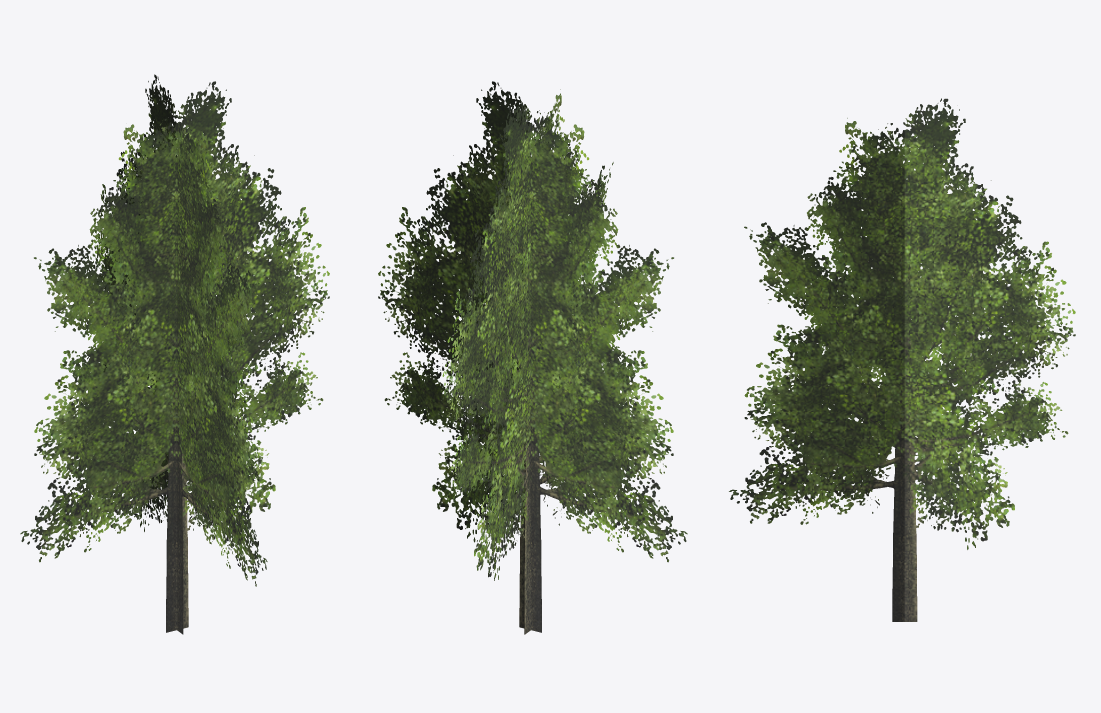
The model's file is Basswood_Fan_0.obj.
3 views of the same model, side by side, from view 1: azimuth 30°, elevation 25°; view 2: azimuth 150°, elevation 25°; view 3: azimuth 270°, elevation 25° (orthographic). The views are drawn at different scales.
Parts seen in each view (by area): view 1: CreateFan; view 2: CreateFan; view 3: CreateFan.
Part boxes in pixels (x1,y1,x2,y2): CreateFan: [20, 74, 329, 634]; CreateFan: [378, 81, 687, 634]; CreateFan: [729, 98, 1075, 621].
Size of the model in its own units: 18.7 by 30 by 18.7.
1 material, 1 textured.
